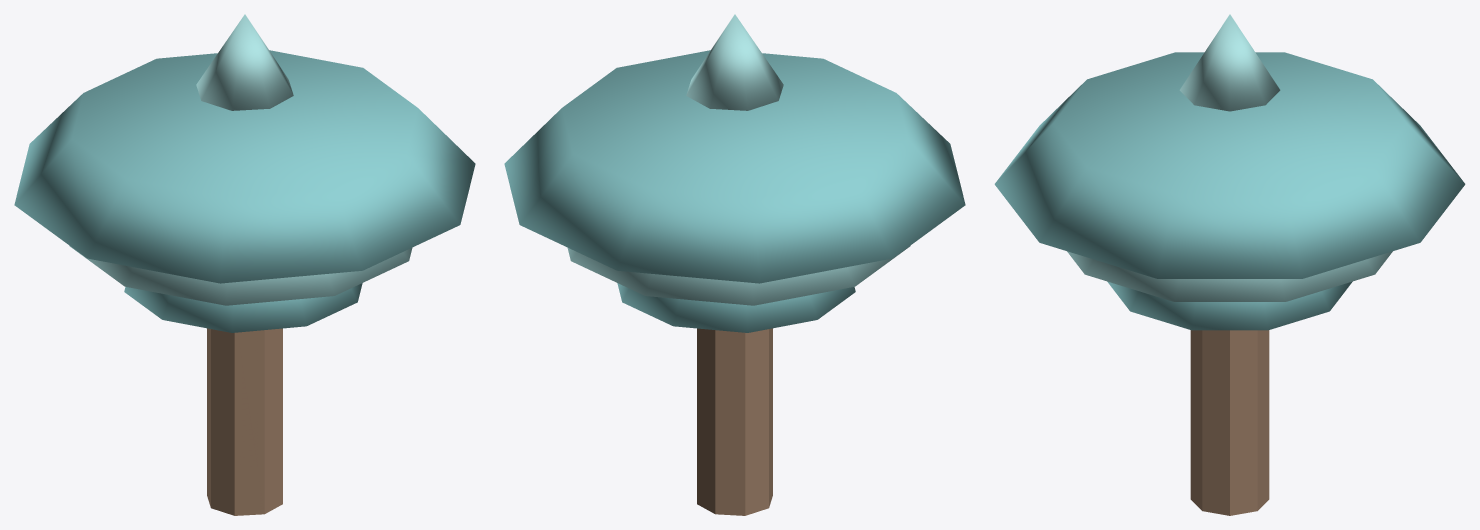
The model's file is Deco_MushroomTree.fbx.
3 views of the same model, side by side, from view 1: azimuth 30°, elevation 25°; view 2: azimuth 150°, elevation 25°; view 3: azimuth 270°, elevation 25° (orthographic).
Visible parts, largest first — view 1: Deco_MushroomTree, Deco_MushroomTree_Trunk, Deco_MushroomTree_Tip; view 2: Deco_MushroomTree, Deco_MushroomTree_Trunk, Deco_MushroomTree_Tip; view 3: Deco_MushroomTree, Deco_MushroomTree_Trunk, Deco_MushroomTree_Tip.
Boxes of the visible parts, bbox=[...] form: Deco_MushroomTree: bbox=[14, 50, 475, 332]; Deco_MushroomTree_Trunk: bbox=[207, 328, 282, 515]; Deco_MushroomTree_Tip: bbox=[196, 14, 293, 110]; Deco_MushroomTree: bbox=[504, 50, 965, 332]; Deco_MushroomTree_Trunk: bbox=[697, 328, 772, 515]; Deco_MushroomTree_Tip: bbox=[686, 14, 783, 110]; Deco_MushroomTree: bbox=[994, 52, 1465, 330]; Deco_MushroomTree_Trunk: bbox=[1190, 330, 1269, 515]; Deco_MushroomTree_Tip: bbox=[1179, 14, 1280, 111].
Bounding box in the file's own units: 0.7989 × 0.955 × 0.84.
